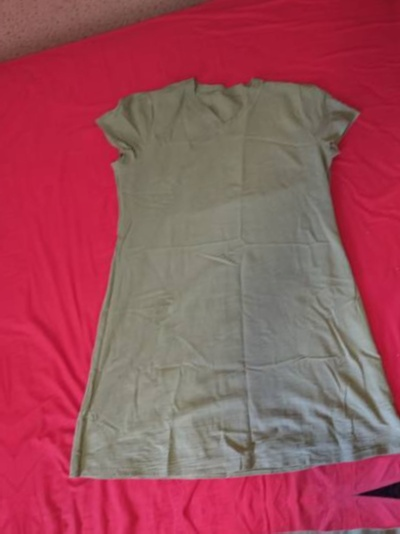Dress: (43, 35, 400, 508), (92, 504, 400, 534)
